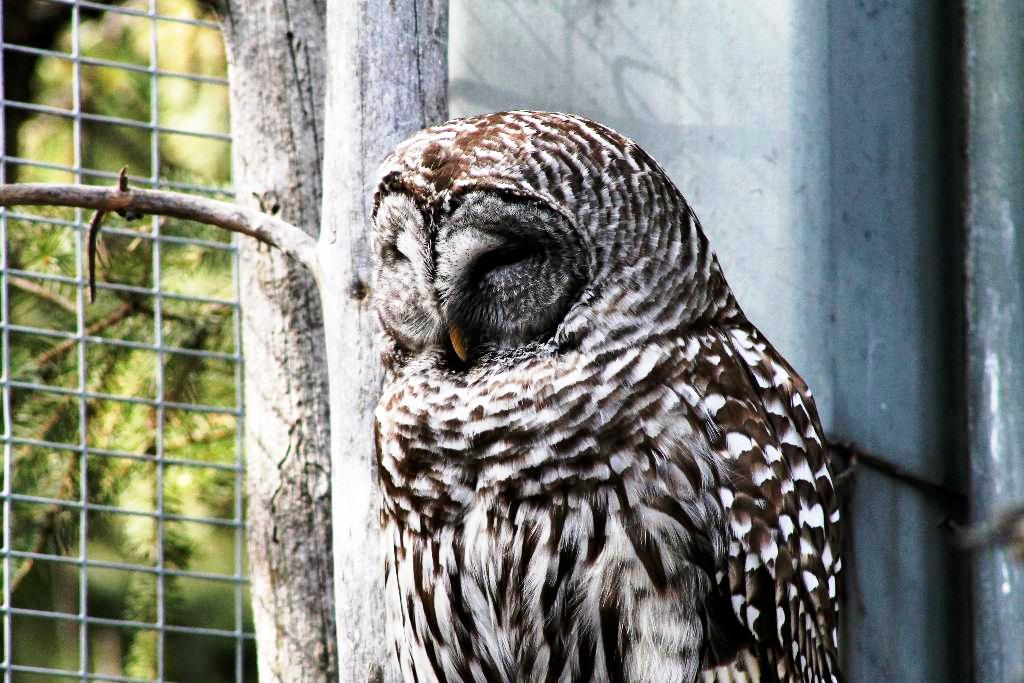Owl: (370, 108, 850, 682)
